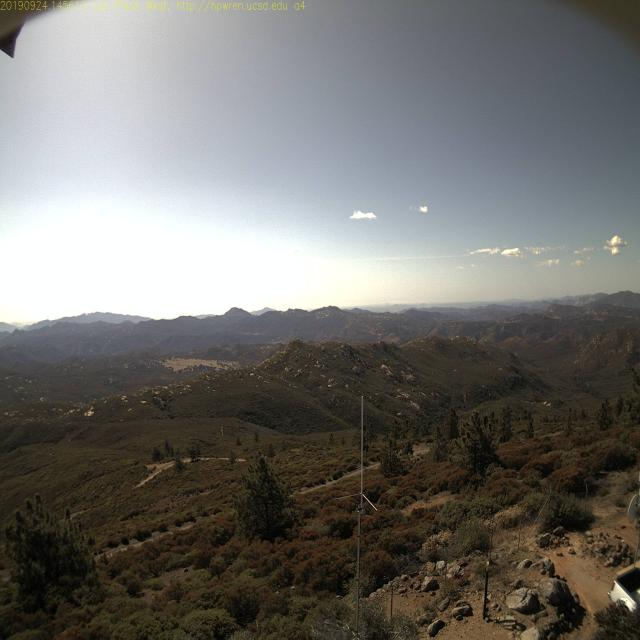smoke: (381, 295, 394, 315)
